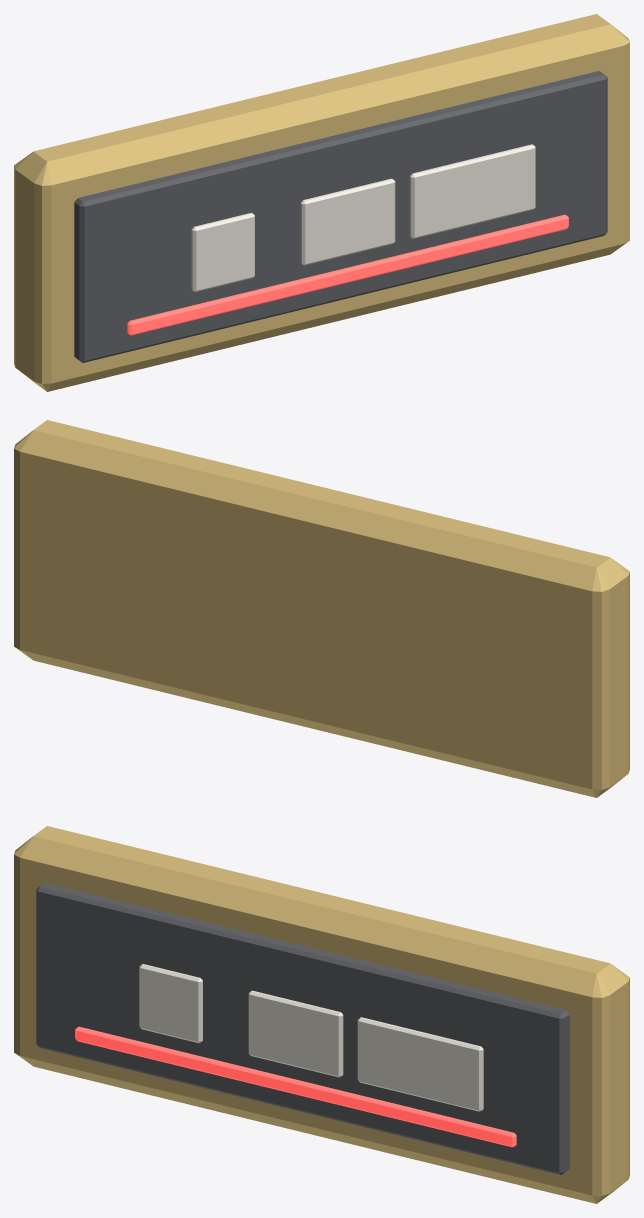
Rendered from escape-room-and-puzzle-venue-room-name-plate-971d62b9__35809.glb.
3 views of the same model, one above another, from view 1: azimuth 30°, elevation 25°; view 2: azimuth 150°, elevation 25°; view 3: azimuth 330°, elevation 25° (orthographic).
Parts seen in each view (by area): view 1: room-name-plate; view 2: room-name-plate; view 3: room-name-plate.
Boxes of the visible parts, <box> form: room-name-plate: <box>14,14,629,391</box>; room-name-plate: <box>14,420,629,797</box>; room-name-plate: <box>14,826,629,1203</box>.
Bounding box in the file's own units: 0.54 × 0.2 × 0.069.
